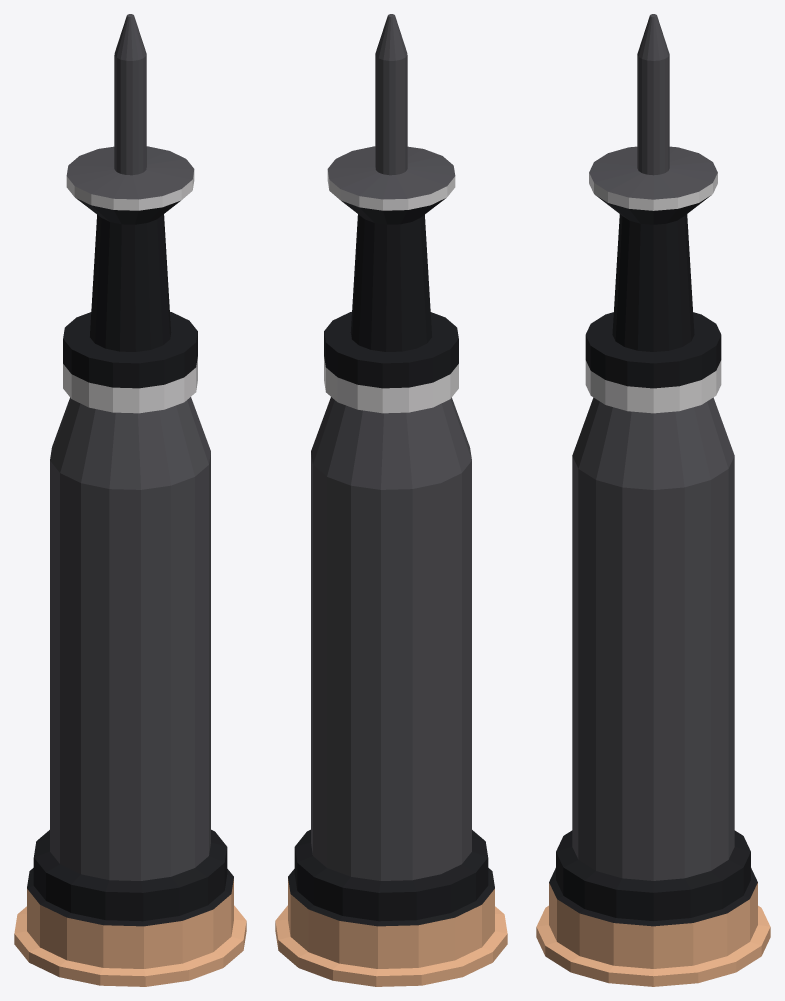
File: Shell_120mm.fbx
3 renders of one model, left to right at view 1: azimuth 30°, elevation 25°; view 2: azimuth 150°, elevation 25°; view 3: azimuth 270°, elevation 25°, orthographic.
Parts seen in each view (by area): view 1: 120mm_Shell; view 2: 120mm_Shell; view 3: 120mm_Shell.
Part boxes in pixels (box(x1,y1,x2,y2)): 120mm_Shell: box(14, 14, 246, 986); 120mm_Shell: box(275, 14, 507, 986); 120mm_Shell: box(536, 14, 770, 986).
Size of the model in its own units: 44.98 by 195 by 44.98.
